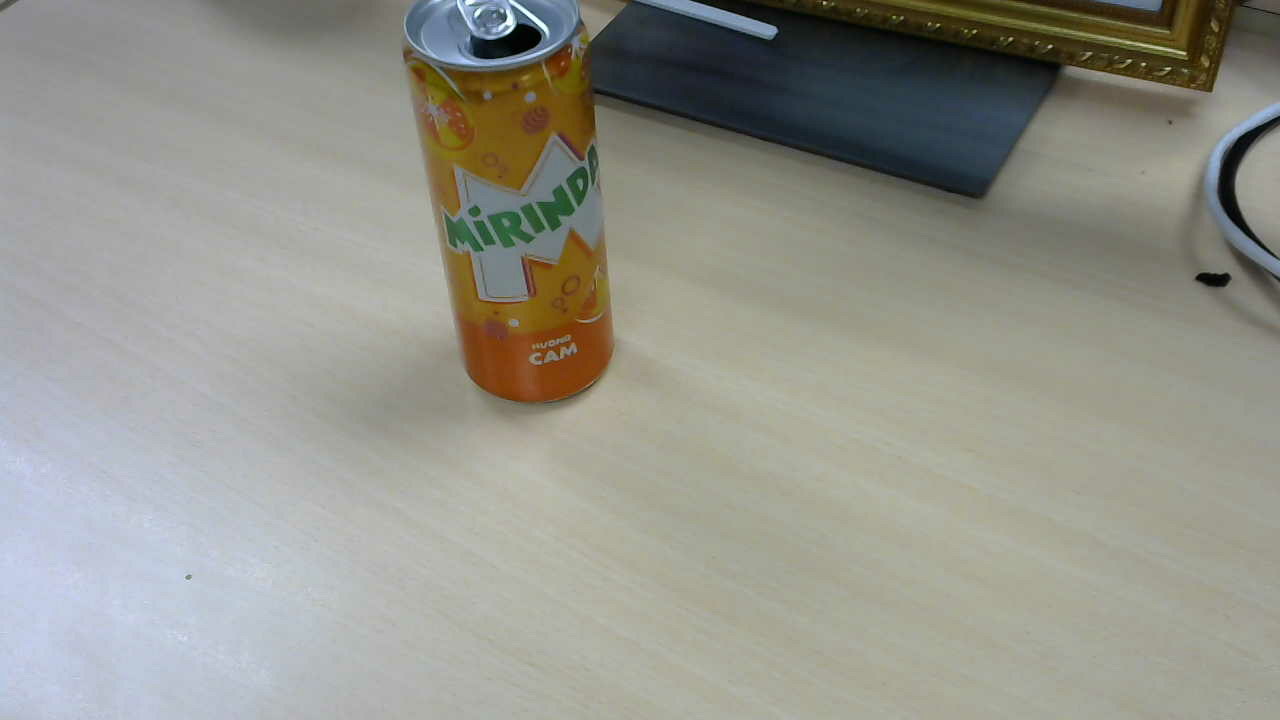Mirinda: (402, 4, 620, 410)
